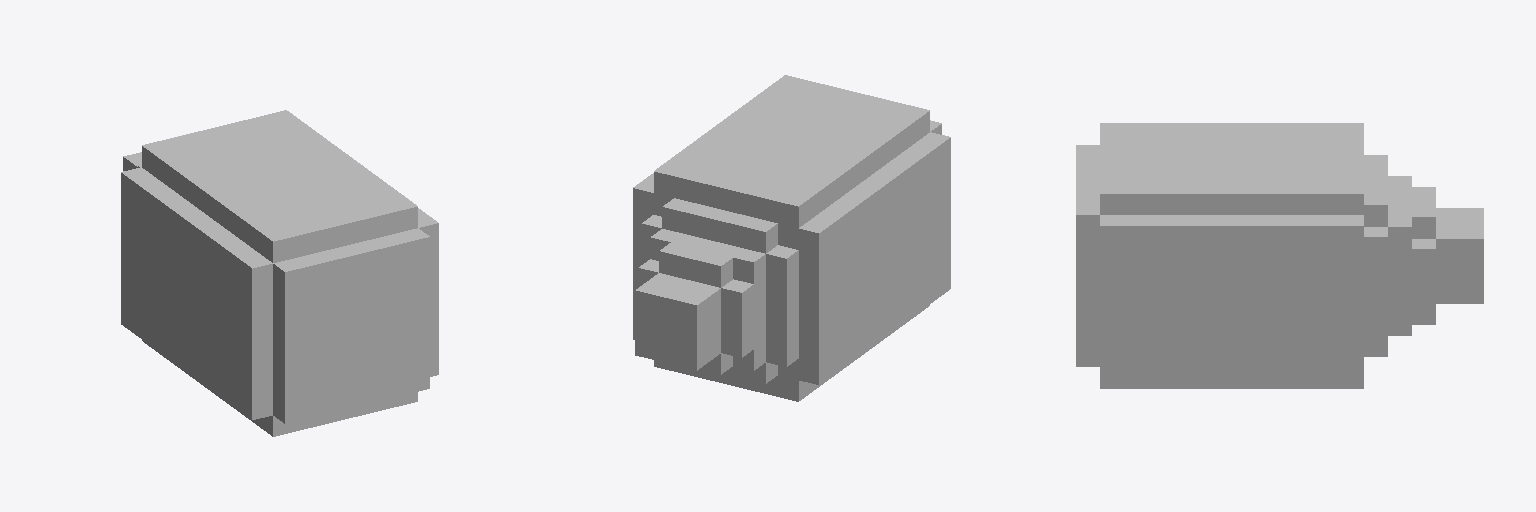
Rendered from Bottle_Water-6.obj.
3 views of the same model, side by side, from view 1: azimuth 30°, elevation 25°; view 2: azimuth 150°, elevation 25°; view 3: azimuth 270°, elevation 25° (orthographic).
Parts seen in each view (by area): view 1: Bottle_Water-6; view 2: Bottle_Water-6; view 3: Bottle_Water-6.
Part boxes in pixels (x1,y1,x2,y2): Bottle_Water-6: (121, 110, 438, 436); Bottle_Water-6: (633, 75, 950, 401); Bottle_Water-6: (1076, 123, 1483, 388).
Bounding box in the file's own units: 0.18 × 0.18 × 0.34.